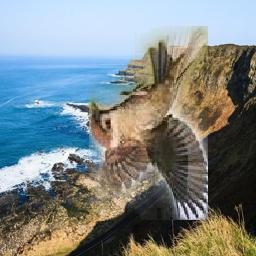Sparrow: (90, 26, 209, 220)
